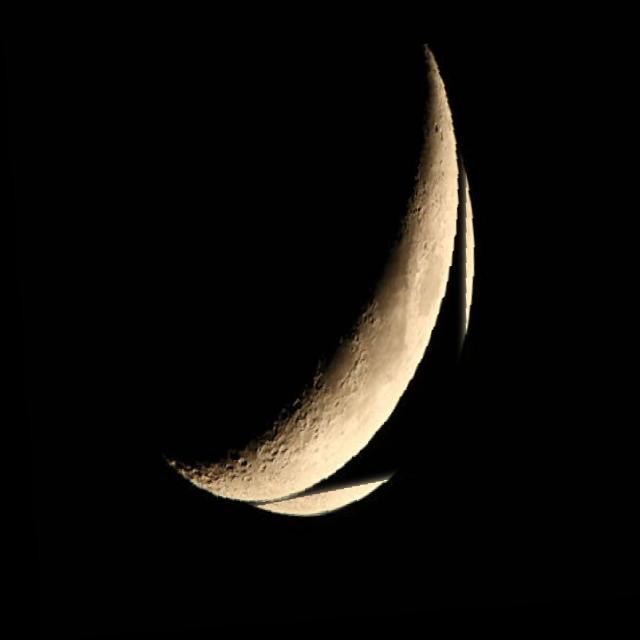moon: (134, 48, 492, 530)
